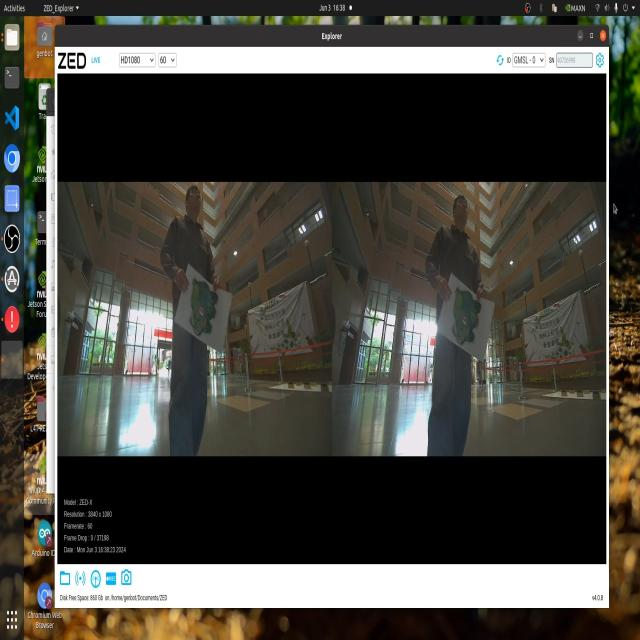green: (186, 276, 233, 354), (441, 282, 480, 354)
